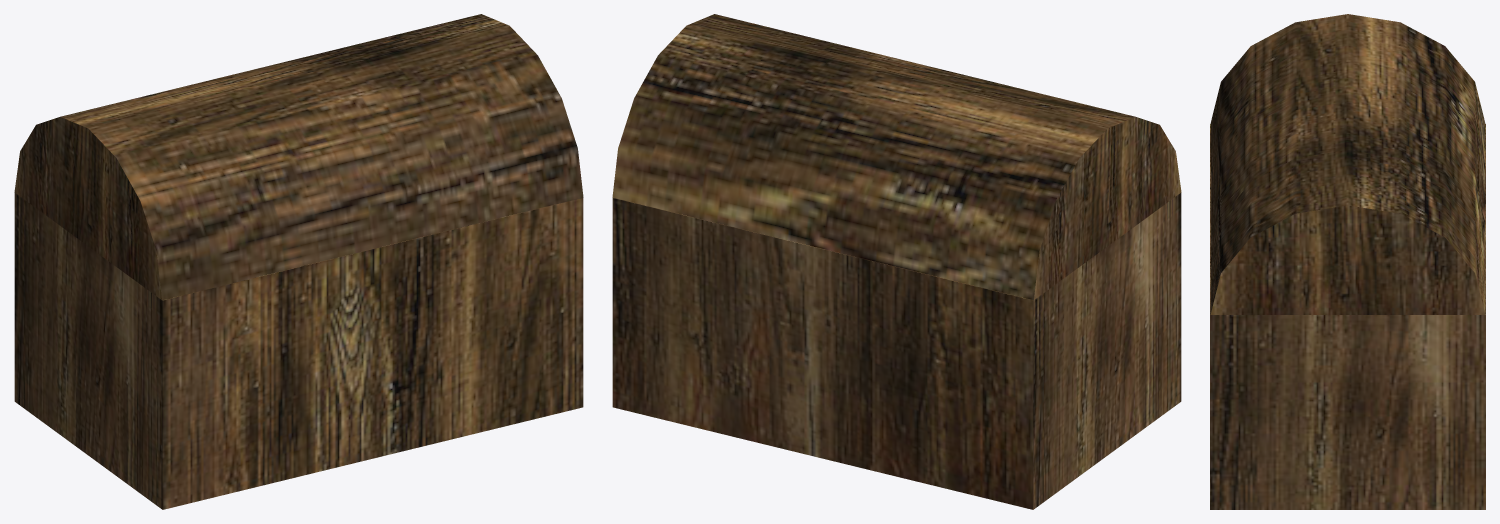
The model's file is treasurebox.fbx.
3 views of the same model, side by side, from view 1: azimuth 30°, elevation 25°; view 2: azimuth 150°, elevation 25°; view 3: azimuth 270°, elevation 25° (orthographic). The views are drawn at different scales.
Visible parts, largest first — view 1: box_body, box_cover; view 2: box_body, box_cover; view 3: box_cover, box_body.
Part boxes in pixels (x1,y1,x2,y2): box_body: [14, 193, 583, 509]; box_cover: [14, 14, 583, 300]; box_body: [612, 193, 1181, 509]; box_cover: [612, 14, 1181, 300]; box_cover: [1210, 14, 1485, 314]; box_body: [1210, 124, 1485, 509].
Bounding box in the file's own units: 9.07 × 6.74 × 5.52.
Materials: 1 (1 with a texture image).
